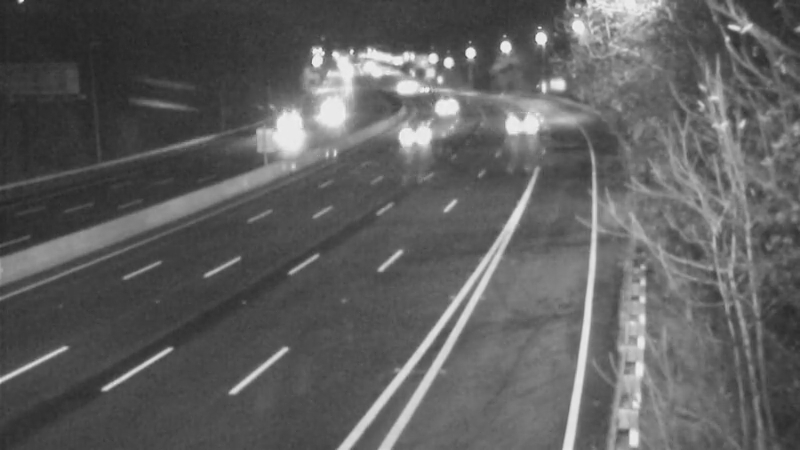vehicle: (375, 65, 425, 115), (398, 63, 448, 113), (422, 85, 472, 135), (485, 99, 535, 149), (387, 107, 437, 157), (266, 105, 316, 155), (306, 88, 356, 138)
